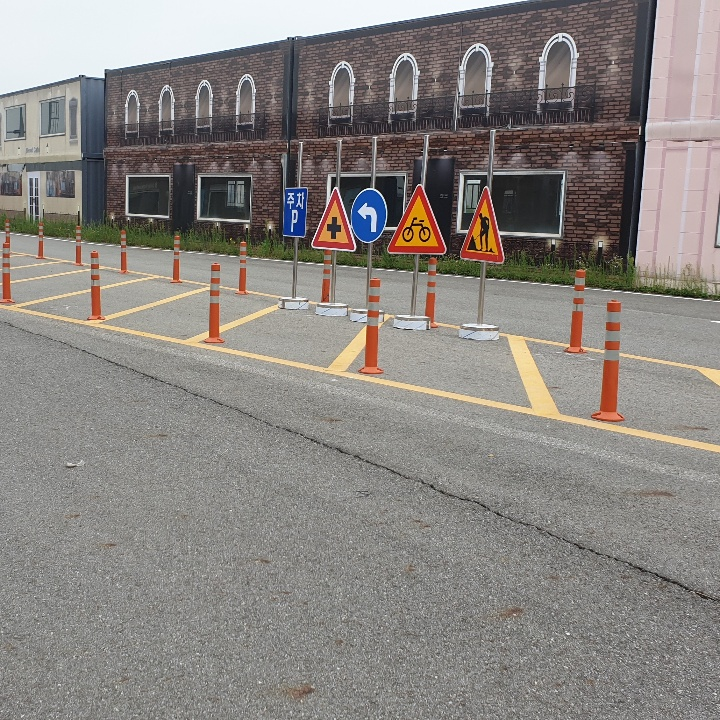bicycle: (386, 185, 448, 255)
const: (464, 207, 502, 255)
inter: (321, 213, 345, 244)
left: (353, 195, 381, 235)
parking: (286, 201, 303, 236)
